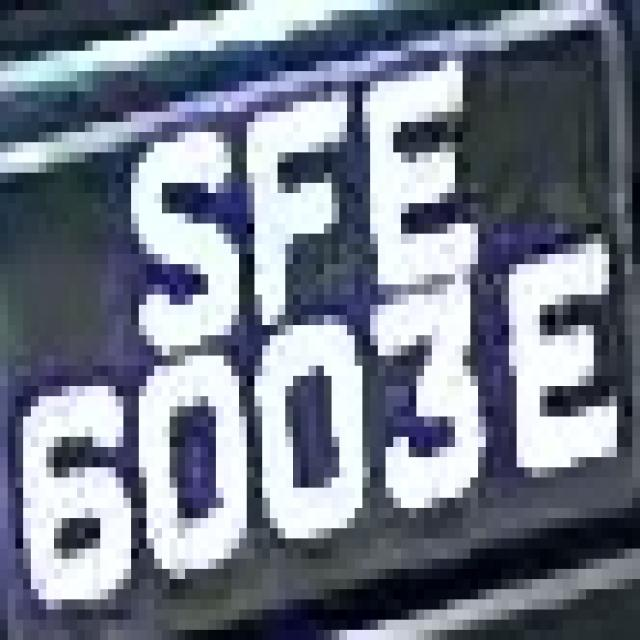0: (123, 305, 247, 579), (247, 305, 370, 538)
3: (370, 274, 486, 538)
6: (23, 345, 124, 630)
E: (494, 254, 624, 508), (347, 61, 493, 274)
F: (232, 71, 362, 305)
S: (108, 122, 270, 345)
